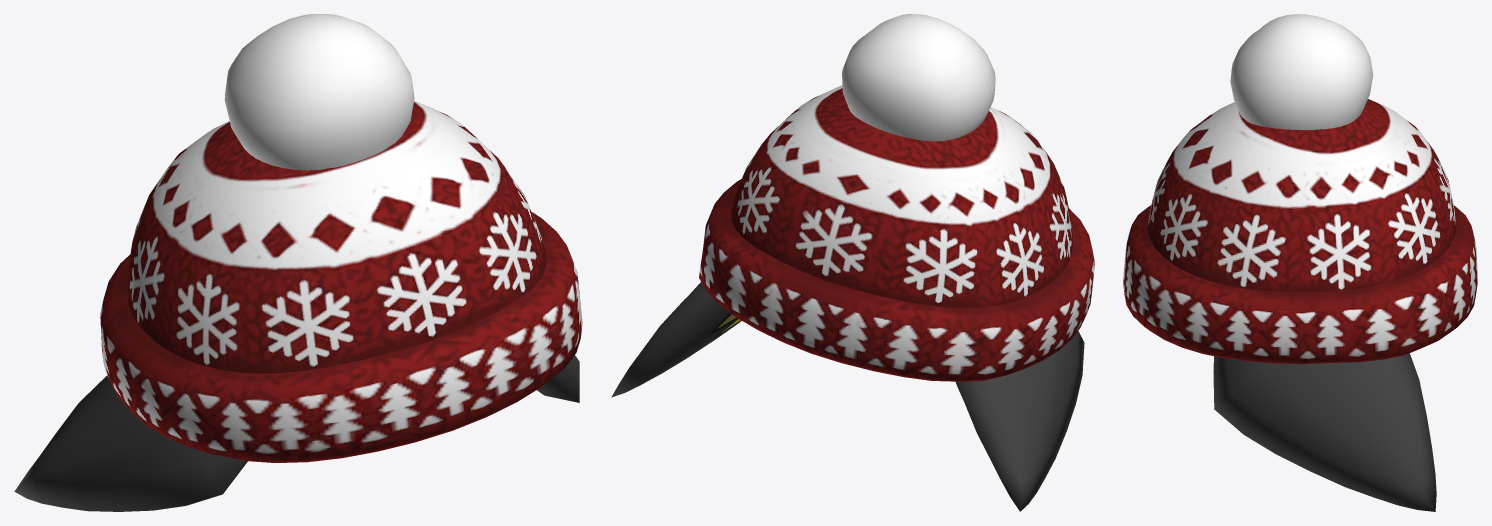
File: hat_pm0172_00_pichu_winter.fbx
The picture shows the model from 3 angles, left to right: view 1: azimuth 30°, elevation 25°; view 2: azimuth 150°, elevation 25°; view 3: azimuth 270°, elevation 25°; orthographic projection. The views are drawn at different scales.
Visible parts, largest first — view 1: hat_pm0172_00_pichu_winter; view 2: hat_pm0172_00_pichu_winter; view 3: hat_pm0172_00_pichu_winter.
Boxes of the visible parts, x1,y1,x2,y2 form: hat_pm0172_00_pichu_winter: (14, 14, 582, 511); hat_pm0172_00_pichu_winter: (611, 14, 1094, 511); hat_pm0172_00_pichu_winter: (1123, 14, 1477, 511).
Bounding box in the file's own units: 0.271 × 0.2459 × 0.205.
